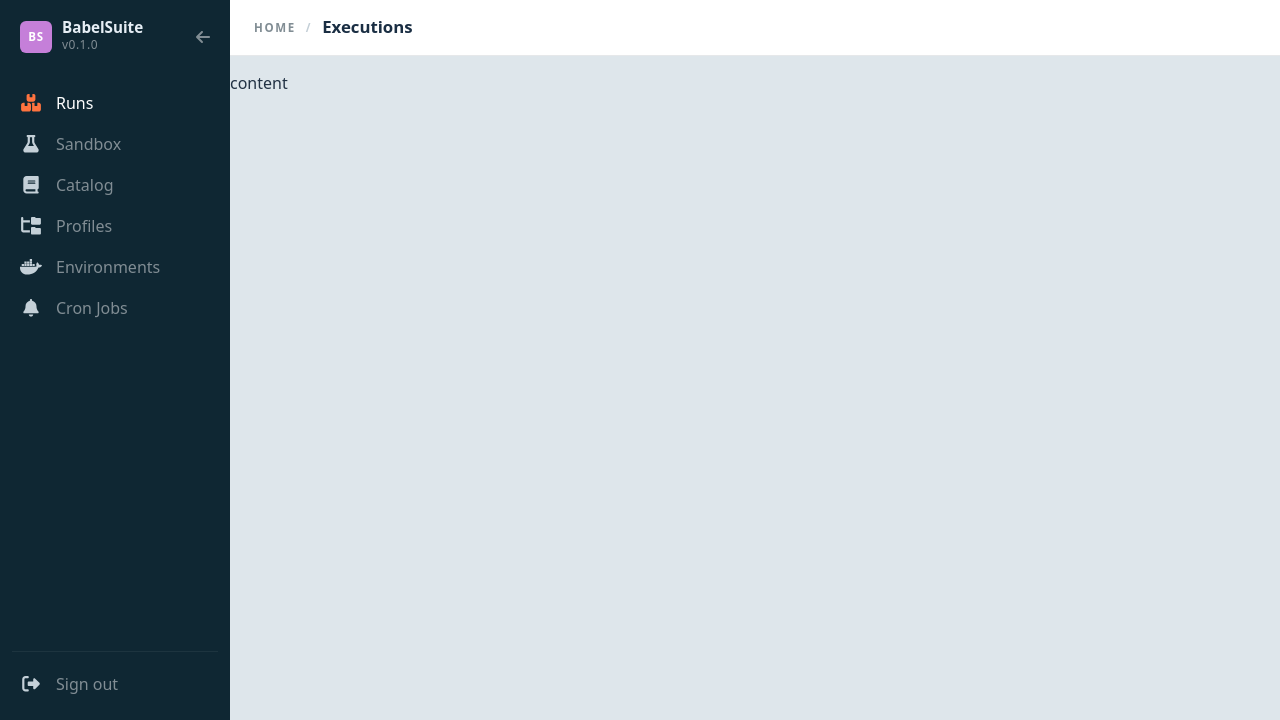
Scenario: AppShell › toggles collapsed class on collapse button click
Click the button named "collapse navigation" at coordinates (203, 37), box [188, 22, 218, 52]
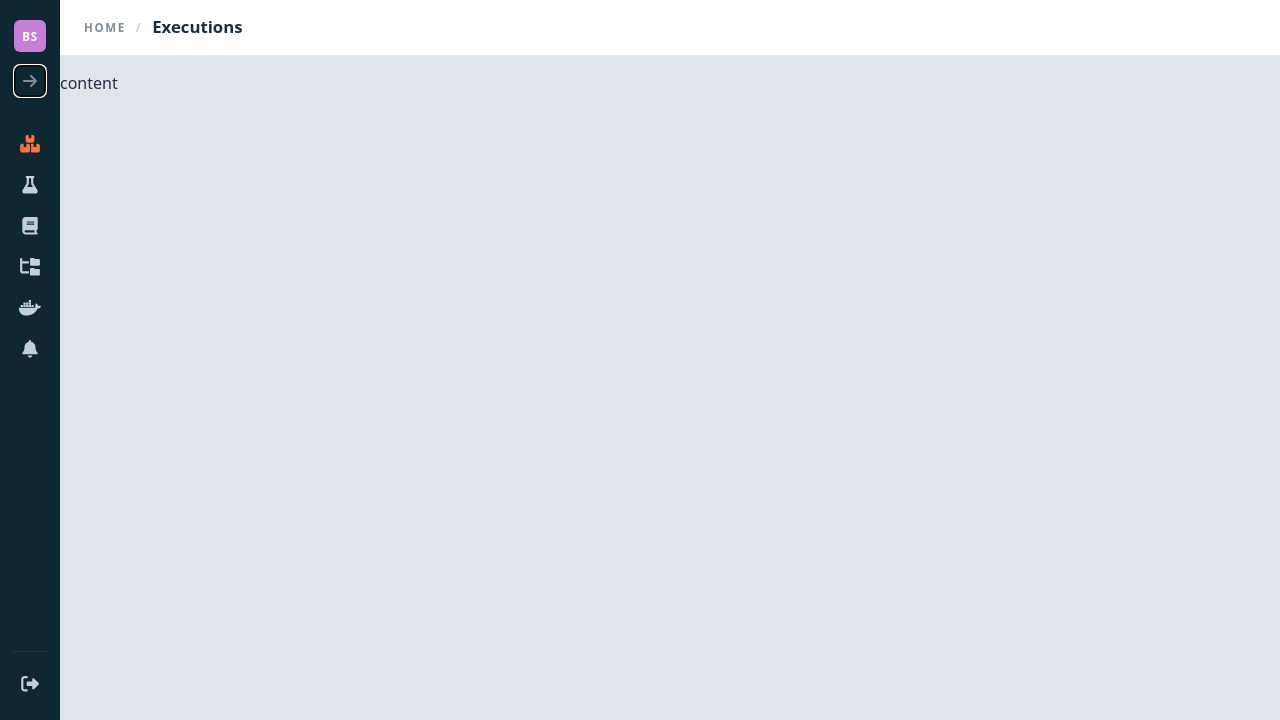
Result: the element with class "app-shell--collapsed" is shown
